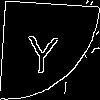Y: (25, 25, 60, 75)
